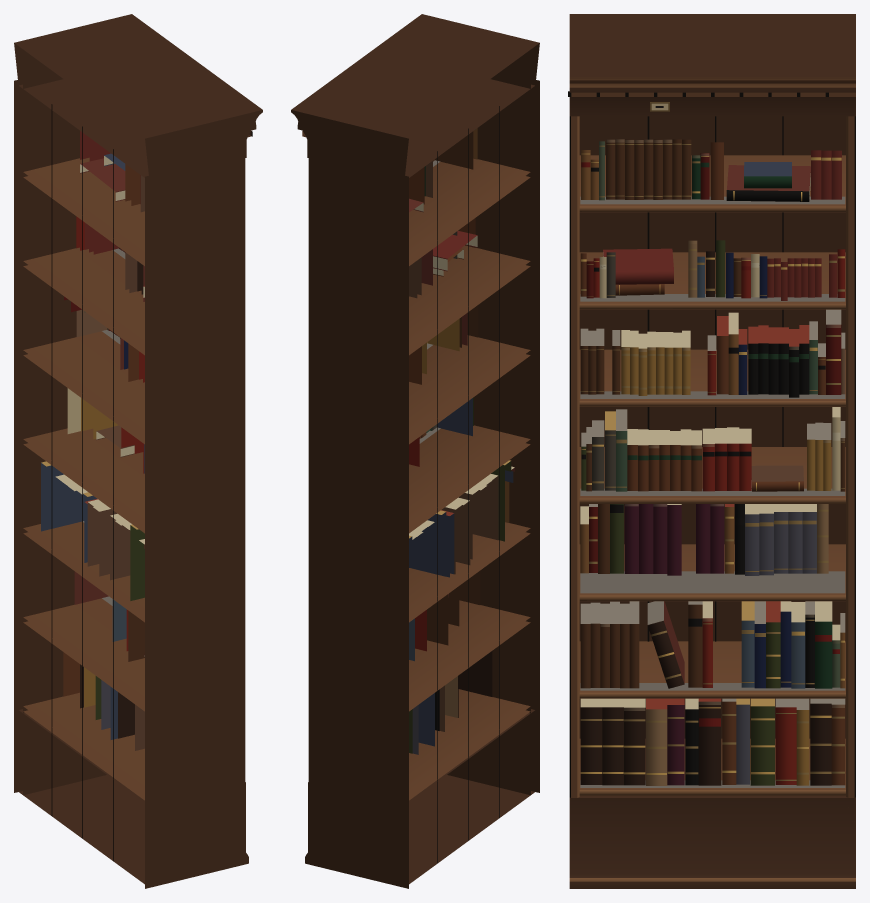
The model's file is bookcase_aisle@2.glb.
The picture shows the model from 3 angles, left to right: view 1: azimuth 30°, elevation 25°; view 2: azimuth 150°, elevation 25°; view 3: azimuth 270°, elevation 25°; orthographic projection. The views are drawn at different scales.
Parts seen in each view (by area): view 1: regal; view 2: regal; view 3: regal.
Part boxes in pixels (x1,y1,x2,y2): regal: (14,14,262,888); regal: (291,14,539,888); regal: (568,14,855,888).
Bounding box in the file's own units: 0.52 × 3.16 × 1.01.
